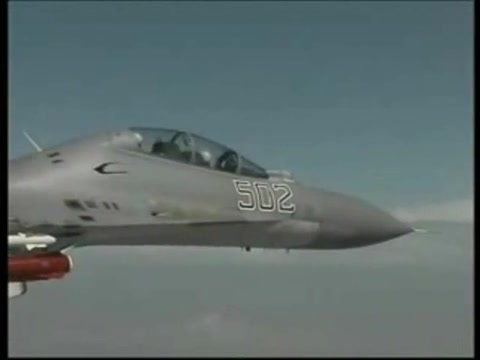aeroplane: (9, 126, 422, 305)
